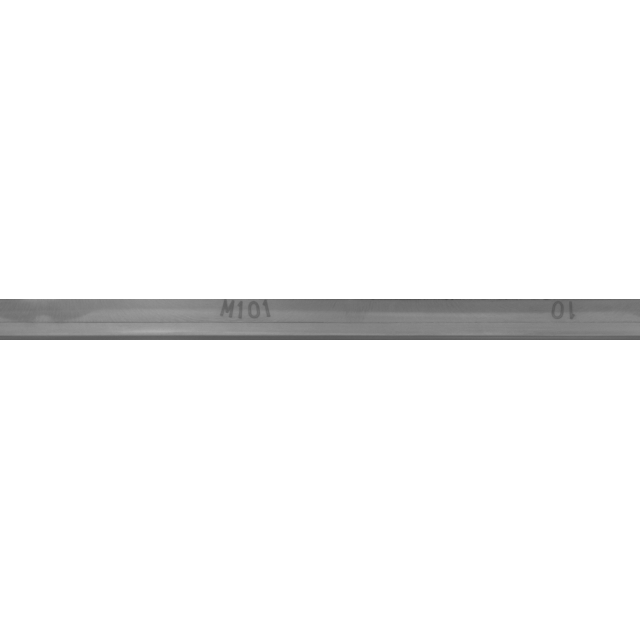mohao: (139, 270, 339, 370)
xuehao: (465, 270, 640, 370)
